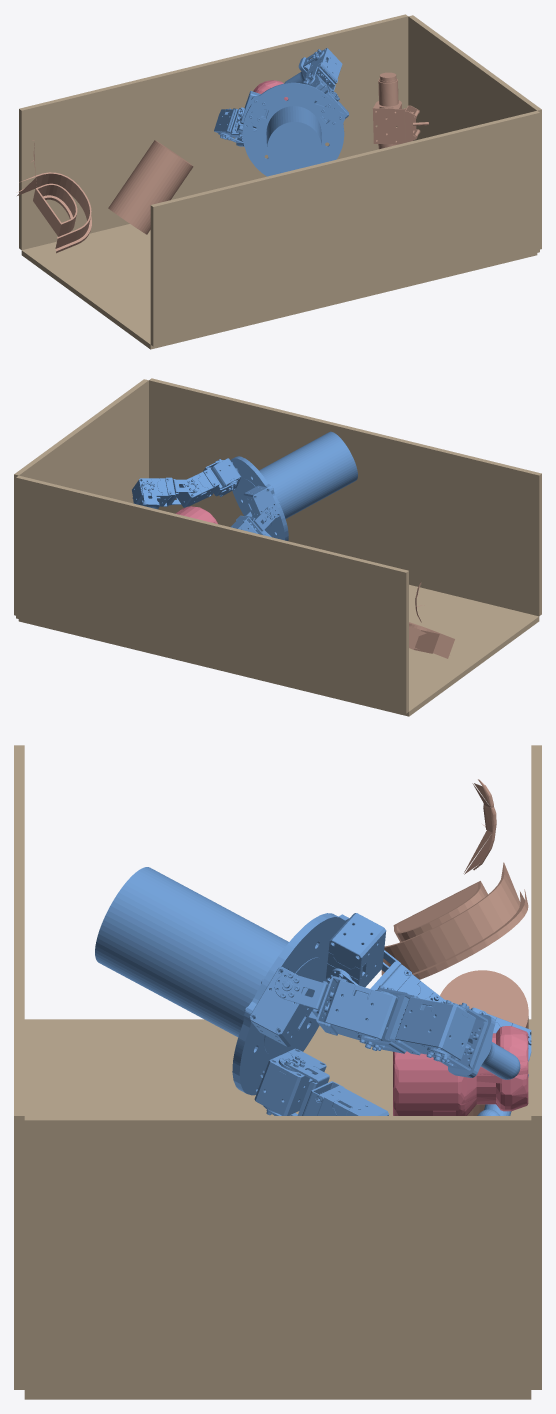
3 renders of one model, top to bottom at view 1: azimuth 30°, elevation 25°; view 2: azimuth 150°, elevation 25°; view 3: azimuth 270°, elevation 25°, orthographic. The views are drawn at different scales.
Parts seen in each view (by area): view 1: environment, hand, obstacle_000, obstacle_003, obstacle_001; view 2: environment, hand, obstacle_003; view 3: environment, hand, obstacle_003, world, obstacle_000, obstacle_002.
Boxes of the visible parts, x1,y1,x2,y2 form: environment: [19, 14, 541, 349]; hand: [214, 48, 349, 176]; obstacle_000: [108, 140, 193, 234]; obstacle_003: [17, 172, 91, 253]; obstacle_001: [372, 72, 428, 149]; environment: [14, 378, 541, 716]; hand: [132, 431, 357, 540]; obstacle_003: [409, 622, 454, 658]; environment: [14, 745, 541, 1399]; hand: [95, 867, 531, 1115]; obstacle_003: [381, 862, 528, 979]; world: [393, 1026, 528, 1115]; obstacle_000: [440, 970, 528, 1115]; obstacle_002: [463, 779, 496, 874].
Bounding box in the file's own units: 0.6739 × 0.2637 × 0.3902.
